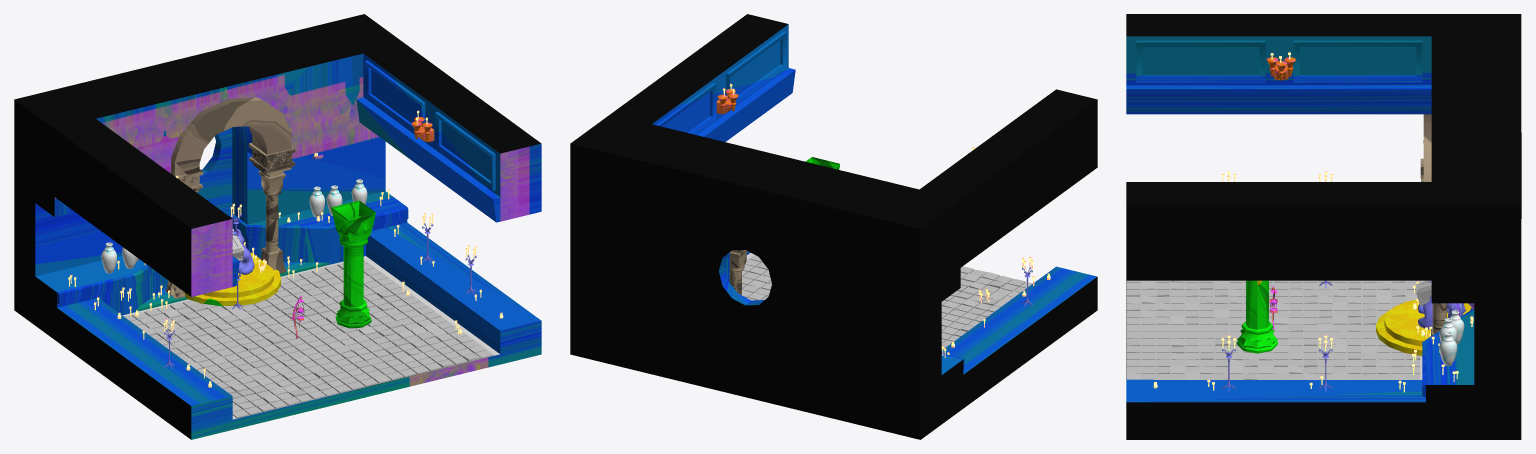
Rendered from start_castl.fbx.
3 views of the same model, side by side, from view 1: azimuth 30°, elevation 25°; view 2: azimuth 150°, elevation 25°; view 3: azimuth 270°, elevation 25° (orthographic). The views are drawn at different scales.
Parts seen in each view (by area): view 1: Object_19, Object_17, Object_16, Object_14, Object_11.001, Object_7, Object_5.001, Object_15, Object_18; view 2: Object_17, Object_19, Object_16, Object_14; view 3: Object_17, Object_19, Object_16, Object_7, Object_11.001, Object_14, Object_5.001, Object_15, Object_10, Object_6.
Boxes of the visible parts, x1,y1,x2,y2 form: Object_19: (35, 53, 541, 439); Object_17: (14, 14, 541, 439); Object_16: (124, 259, 493, 418); Object_14: (165, 97, 295, 298); Object_11.001: (331, 200, 375, 328); Object_7: (184, 252, 280, 306); Object_5.001: (101, 179, 367, 273); Object_15: (68, 110, 481, 378); Object_18: (122, 256, 499, 419); Object_17: (570, 14, 1097, 439); Object_19: (652, 24, 1096, 374); Object_16: (742, 254, 1032, 349); Object_14: (729, 250, 747, 295); Object_17: (1126, 14, 1521, 439); Object_19: (1126, 36, 1474, 402); Object_16: (1126, 280, 1420, 379); Object_7: (1376, 300, 1471, 356); Object_11.001: (1236, 280, 1277, 353); Object_14: (1420, 114, 1446, 335); Object_5.001: (1439, 310, 1464, 366); Object_15: (1207, 52, 1473, 392); Object_10: (1418, 295, 1474, 329); Object_6: (1266, 57, 1295, 80).
Size of the model in its own units: 228890 by 131771 by 200559.
